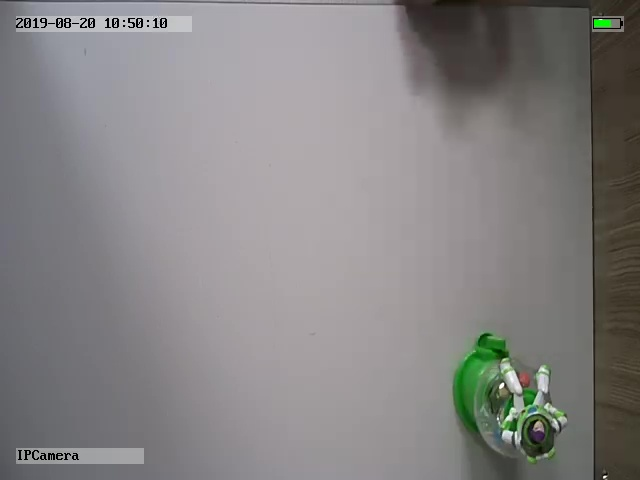buzz: (450, 329, 568, 467)
